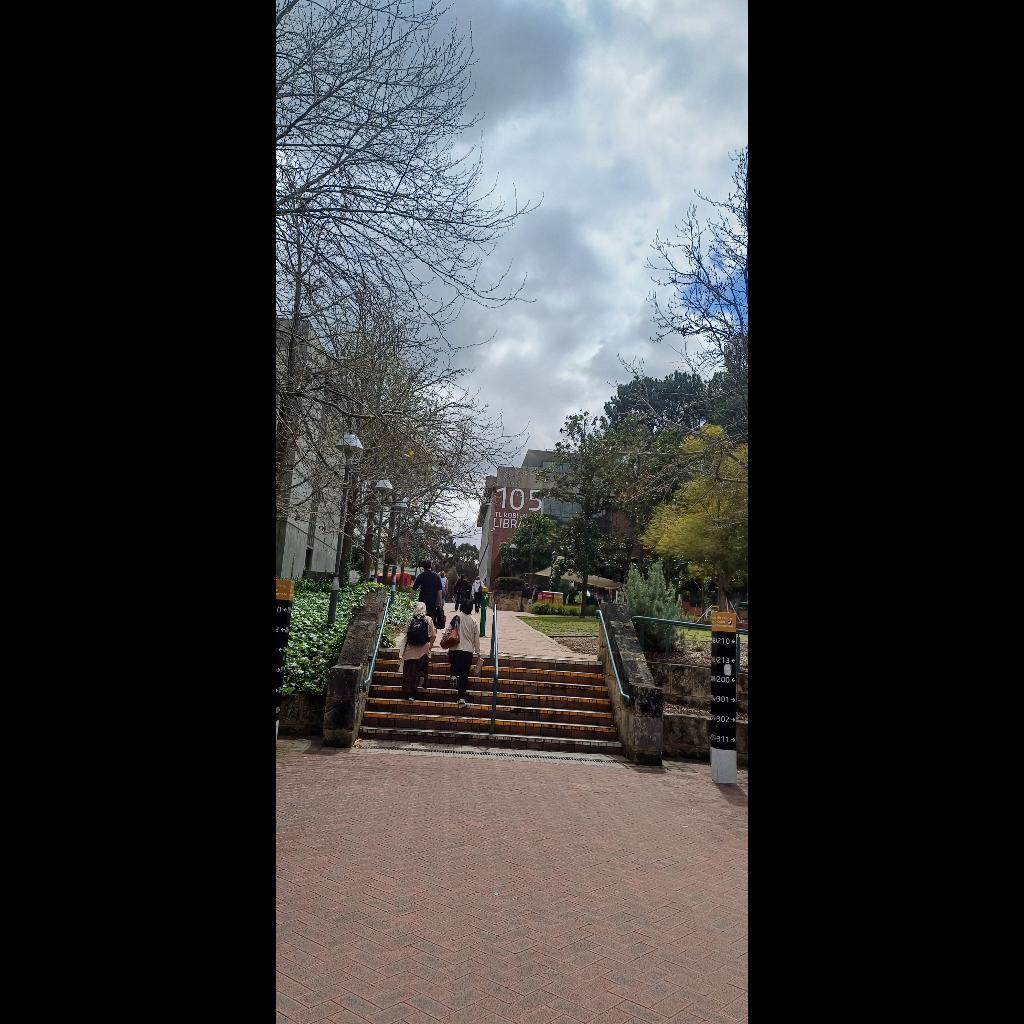BuildingCodes: (498, 482, 544, 514)
